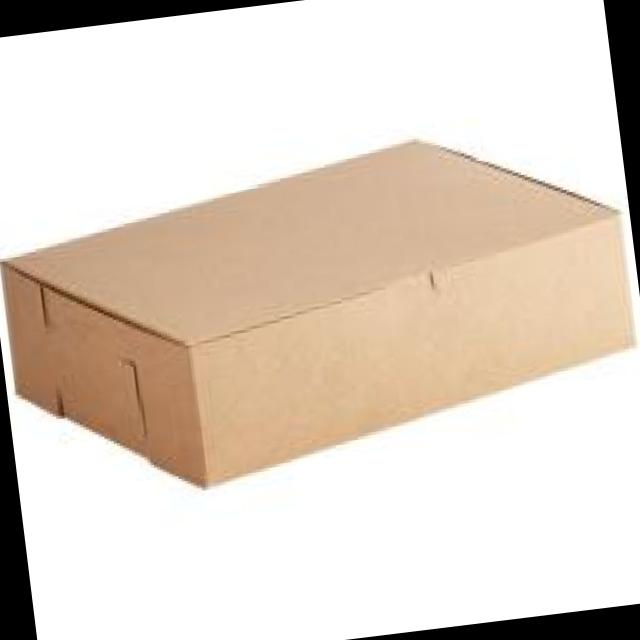box: (0, 141, 640, 489)
